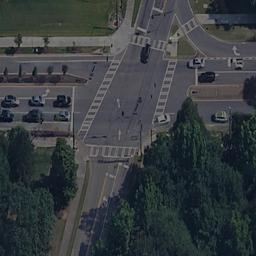Car: (1, 111, 72, 122), (1, 96, 71, 107), (224, 58, 245, 68), (210, 111, 230, 120), (186, 59, 206, 67), (153, 116, 171, 124), (143, 42, 149, 65), (197, 71, 212, 80)
Crosswalk: (75, 62, 118, 141), (150, 63, 176, 124), (130, 37, 167, 53), (92, 144, 142, 155), (181, 17, 201, 29)
Double Solid Yellow Line: (86, 175, 105, 256)
Left Turn Arrow: (40, 87, 51, 97), (104, 195, 108, 206)
Right Turn Arrow: (231, 44, 242, 57)
Solid White Line: (105, 170, 119, 212), (1, 109, 82, 113), (145, 1, 153, 33), (192, 69, 256, 71)
Stop Line: (71, 84, 74, 132), (118, 160, 129, 169), (152, 5, 163, 14), (193, 70, 199, 85), (104, 171, 116, 178), (135, 27, 147, 33)
